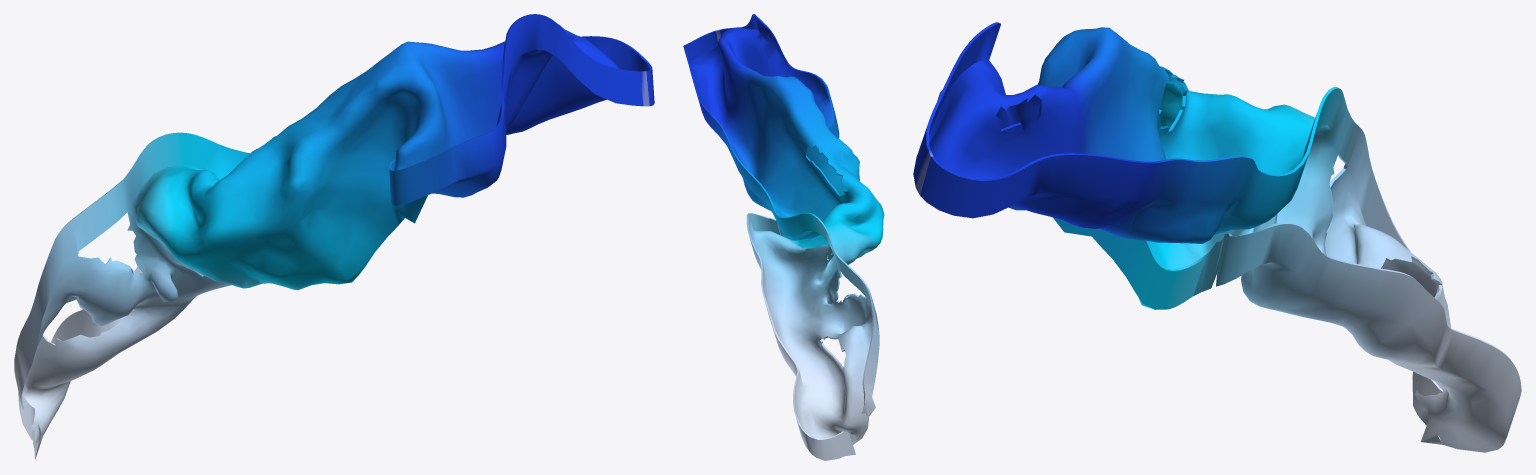
The model's file is s1_glow_test.fbx.
3 renders of one model, left to right at view 1: azimuth 30°, elevation 25°; view 2: azimuth 150°, elevation 25°; view 3: azimuth 270°, elevation 25°, orthographic. The views are drawn at different scales.
Visible parts, largest first — view 1: s1_lh_underglow_unsplit; view 2: s1_lh_underglow_unsplit; view 3: s1_lh_underglow_unsplit.
Boxes of the visible parts, x1,y1,x2,y2 form: s1_lh_underglow_unsplit: (14,14,654,459); s1_lh_underglow_unsplit: (683,14,884,460); s1_lh_underglow_unsplit: (913,22,1521,452).
Size of the model in its own units: 647 by 659 by 588.
